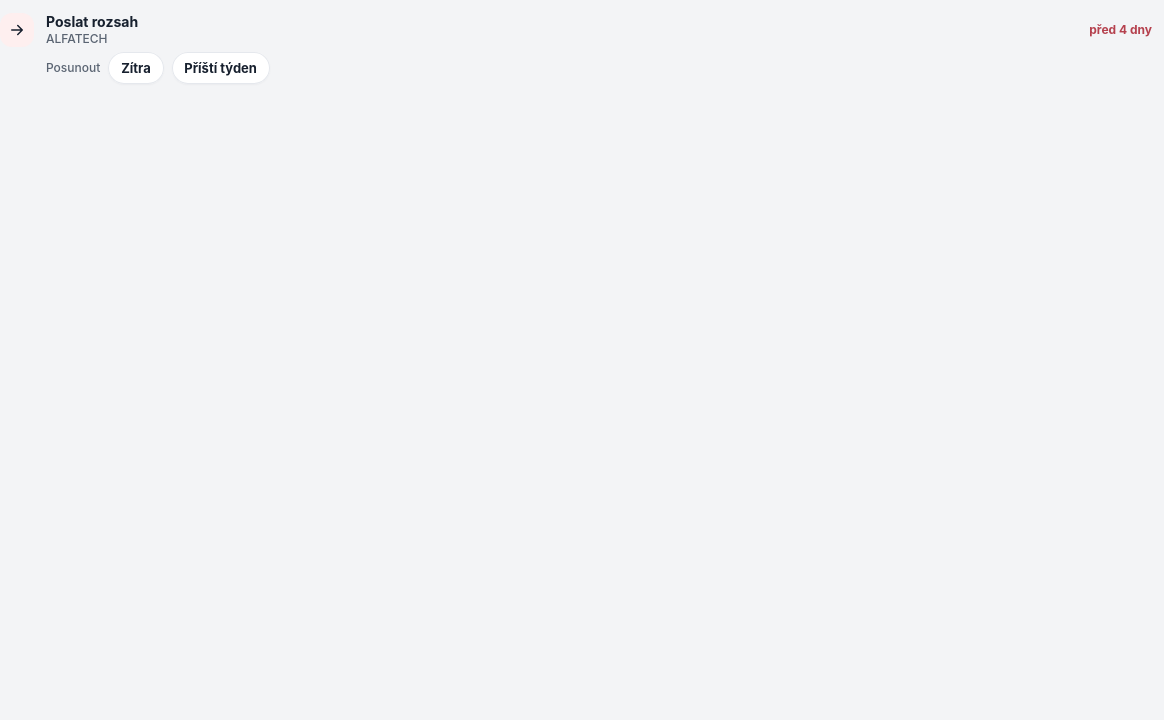
it: Po termínu: posun termínu a dokončení přímo v řádku › Zítra posune termín obchodu, Zpět vrátí původní termín i text kroku
The width and height of the screenshot is (1164, 720).
Click the button "Zítra" at coordinates (136, 68), box [108, 52, 164, 84]
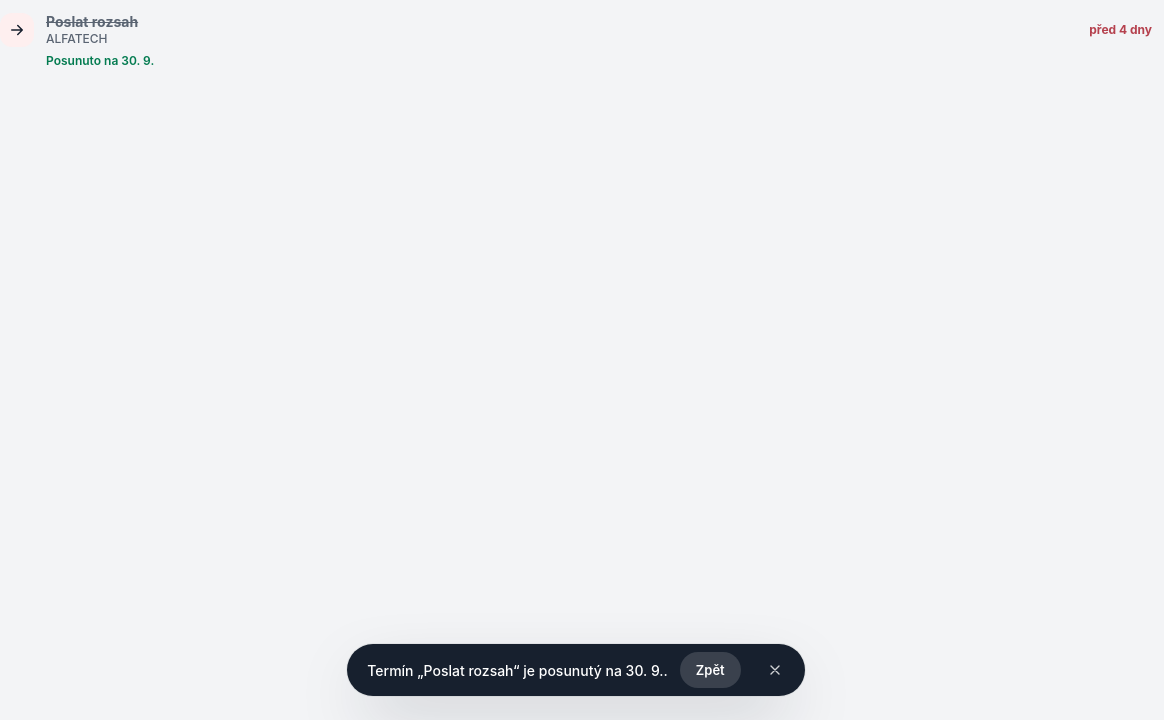
Expected: the text "Posunuto na 30. 9." is shown, [46, 52, 154, 69]
Click the button "Zpět" at coordinates (710, 670), box [680, 652, 741, 688]
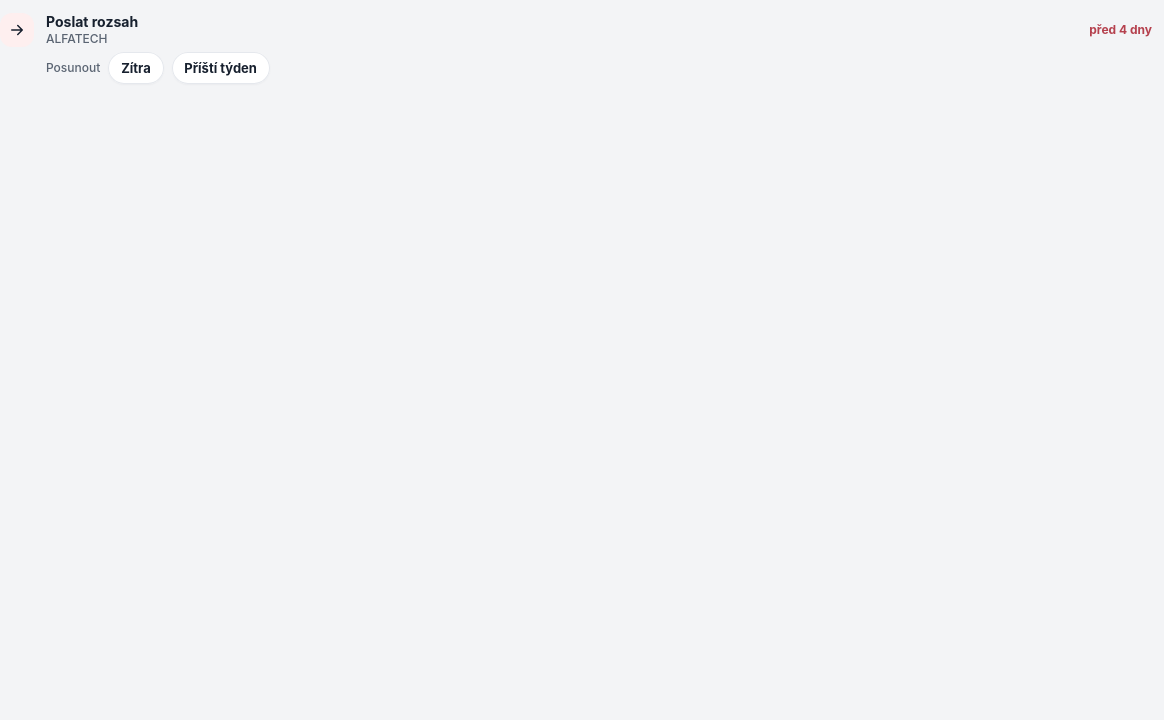
Expected: the text "Posunuto na" is gone
